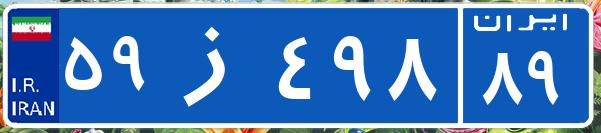4: (273, 28, 330, 110)
5: (57, 26, 110, 107)
8: (385, 28, 445, 110), (475, 38, 525, 113)
9: (330, 28, 385, 110), (110, 28, 158, 105), (525, 38, 570, 115)
ز: (158, 15, 273, 115)
